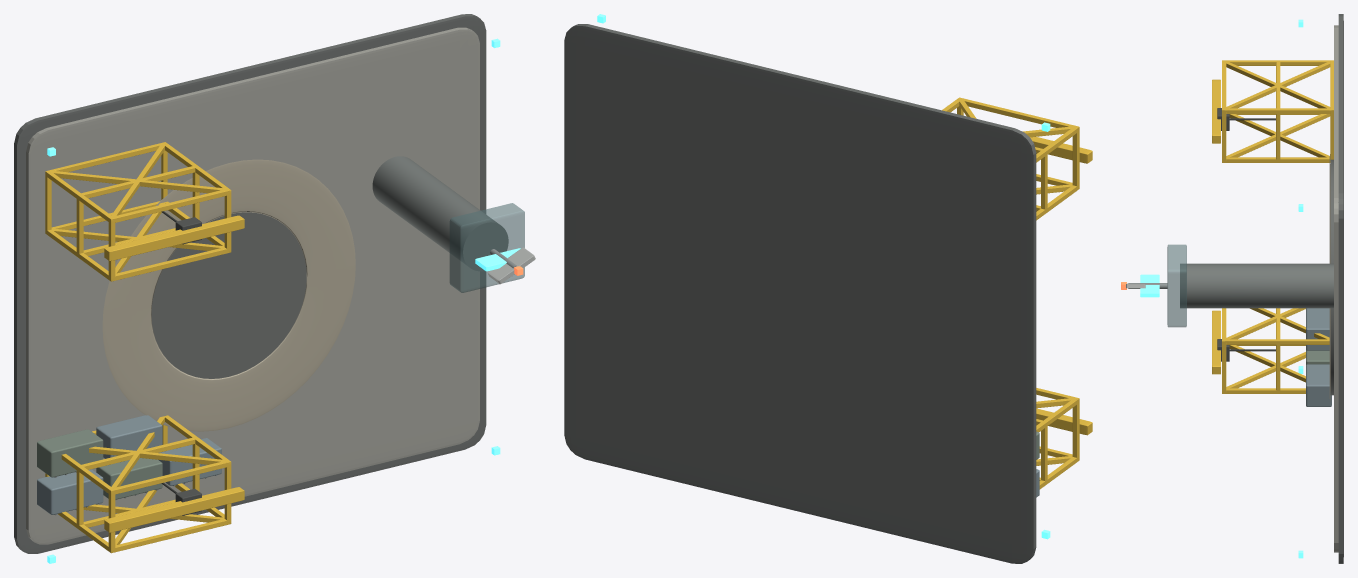
The model's file is b-06-supply-beacon-lod1.glb.
3 renders of one model, left to right at view 1: azimuth 30°, elevation 25°; view 2: azimuth 150°, elevation 25°; view 3: azimuth 270°, elevation 25°, orthographic. The views are drawn at different scales.
Visible parts, largest first — view 1: foundation_inner_pad, landing_pad_ring, primary_landing_pad, foundation, tower_main, tower_glass, supply_container_3_container, supply_crane_south_bridge, supply_crane_north_bridge, supply_container_0_container, supply_container_4_container, supply_container_1_container (+12 smaller); view 2: foundation, supply_crane_north_beam_x_2_n, supply_crane_north_bridge; view 3: tower_main, foundation, foundation_inner_pad, tower_glass, supply_container_2_container, supply_container_4_container, primary_landing_pad, supply_crane_north_brace_b_1, supply_crane_north_brace_a_1, supply_crane_north_brace_a_-1, supply_crane_north_column_e_n, supply_crane_north_brace_b_-1 (+13 smaller).
Boxes of the visible parts, x1,y1,x2,y2 form: foundation_inner_pad: [26, 27, 479, 544]; landing_pad_ring: [102, 159, 355, 431]; primary_landing_pad: [151, 212, 306, 378]; foundation: [14, 14, 486, 553]; tower_main: [372, 156, 508, 270]; tower_glass: [449, 203, 524, 292]; supply_container_3_container: [37, 429, 103, 477]; supply_crane_south_bridge: [104, 487, 244, 532]; supply_crane_north_bridge: [104, 215, 244, 260]; supply_container_0_container: [37, 469, 103, 514]; supply_container_4_container: [96, 415, 162, 458]; supply_container_1_container: [96, 458, 162, 499]; foundation: [564, 24, 1036, 563]; supply_crane_north_beam_x_2_n: [961, 98, 1079, 132]; supply_crane_north_bridge: [1030, 137, 1092, 163]; tower_main: [1180, 263, 1333, 308]; foundation: [1338, 14, 1343, 563]; foundation_inner_pad: [1334, 25, 1338, 552]; tower_glass: [1167, 244, 1186, 327]; supply_container_2_container: [1306, 364, 1331, 406]; supply_container_4_container: [1306, 308, 1329, 350]; primary_landing_pad: [1330, 159, 1333, 395]; supply_crane_north_brace_b_1: [1226, 62, 1330, 108]; supply_crane_north_brace_a_1: [1226, 62, 1330, 108]; supply_crane_north_brace_a_-1: [1226, 114, 1330, 157]; supply_crane_north_column_e_n: [1225, 108, 1331, 113]; supply_crane_north_brace_b_-1: [1229, 114, 1329, 157].
Size of what is drawn, in the model's own units: 17 by 15 by 8.22.
